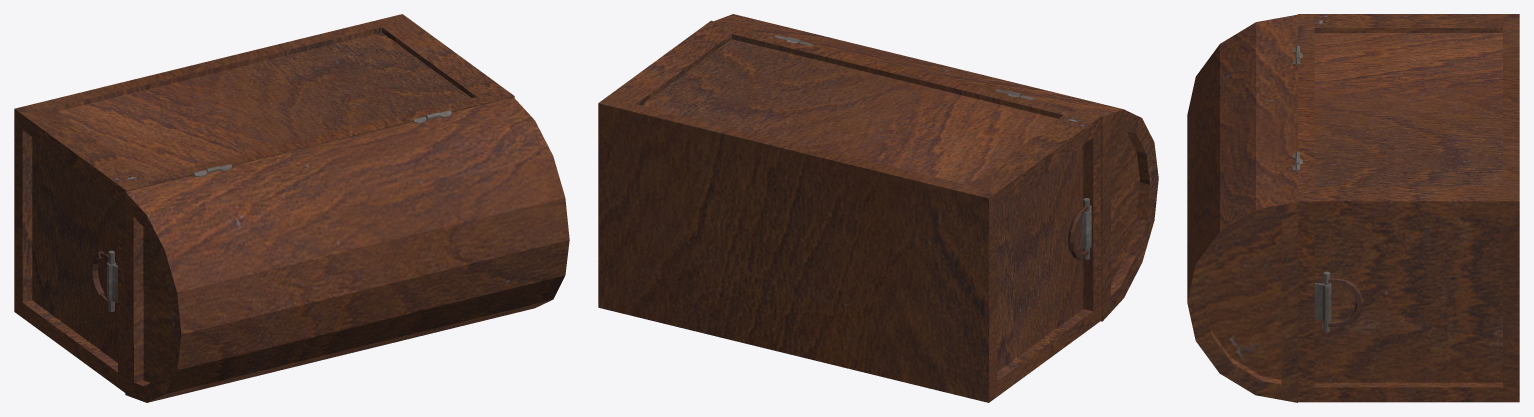
The model's file is chest_unwrapped_diffuse(animated).fbx.
3 renders of one model, left to right at view 1: azimuth 30°, elevation 25°; view 2: azimuth 150°, elevation 25°; view 3: azimuth 270°, elevation 25°, orthographic.
Visible parts, largest first — view 1: Chest_Top, Chest_Bottom; view 2: Chest_Bottom, Chest_Top; view 3: Chest_Bottom, Chest_Top.
Part boxes in pixels (x1,y1,x2,y2): Chest_Top: (125, 97, 569, 402); Chest_Bottom: (14, 14, 514, 392); Chest_Bottom: (598, 20, 1101, 402); Chest_Top: (714, 14, 1158, 321); Chest_Bottom: (1295, 14, 1519, 402); Chest_Top: (1187, 14, 1299, 402).
Size of the model in its own units: 4.08 by 2.07 by 3.
1 material, 1 textured.
